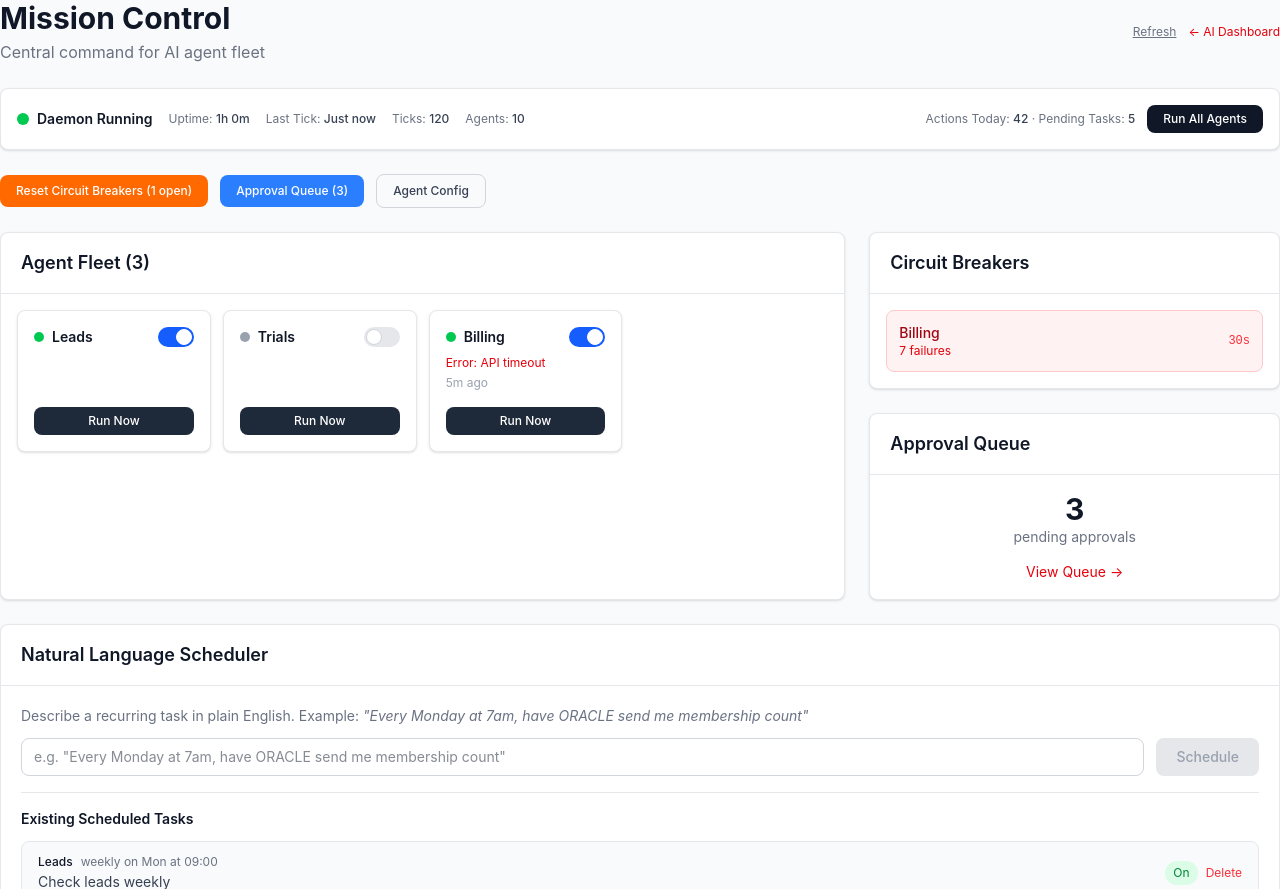
MissionControl › submits NL scheduler form and shows result
The width and height of the screenshot is (1280, 889).
Type "Every Monday at 7am send report" into the field with placeholder "e.g. \"Every Monday".
click(583, 757); type("Every Monday at 7am send report")  # box x1=21 y1=738 x2=1144 y2=776
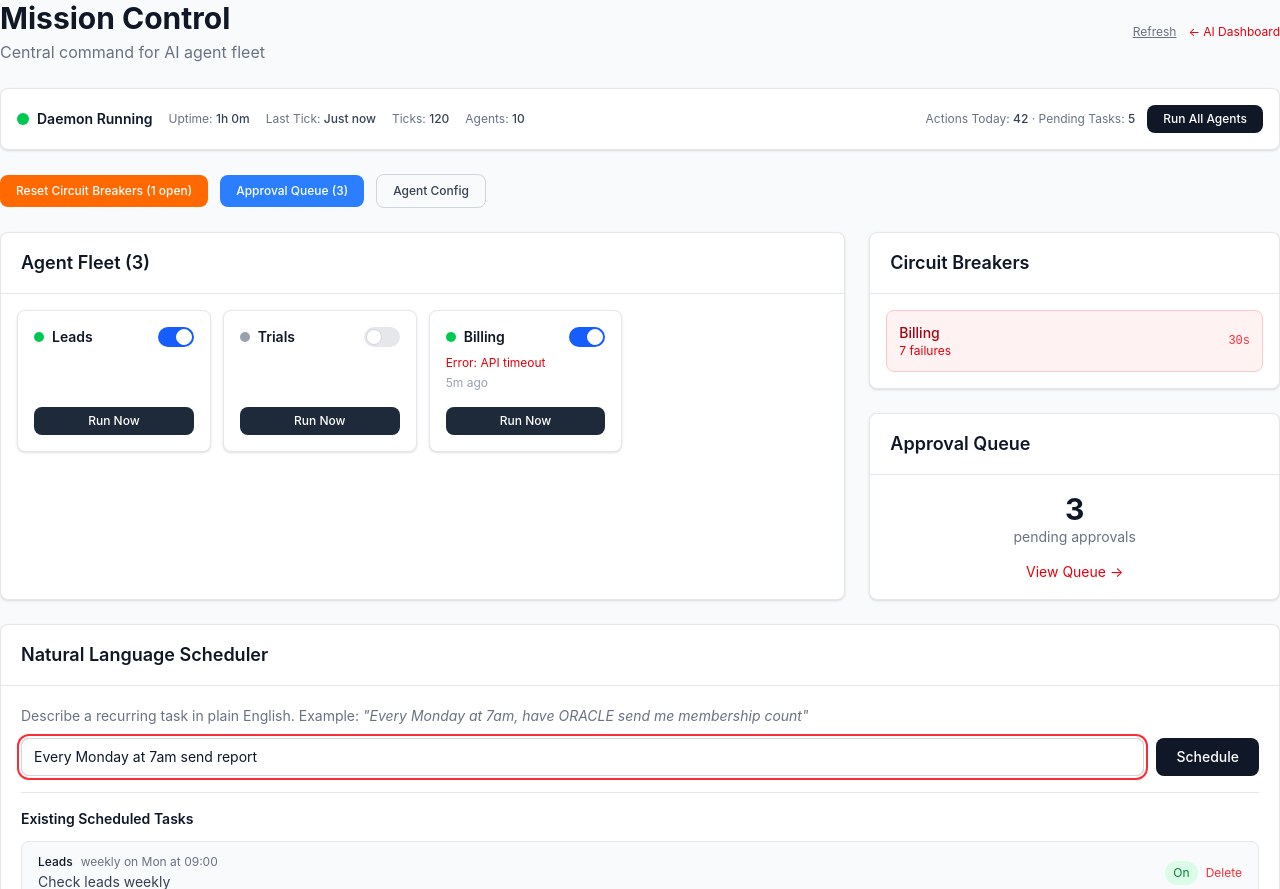
Click the button "Schedule".
click(1208, 757)  # box x1=1156 y1=738 x2=1259 y2=776
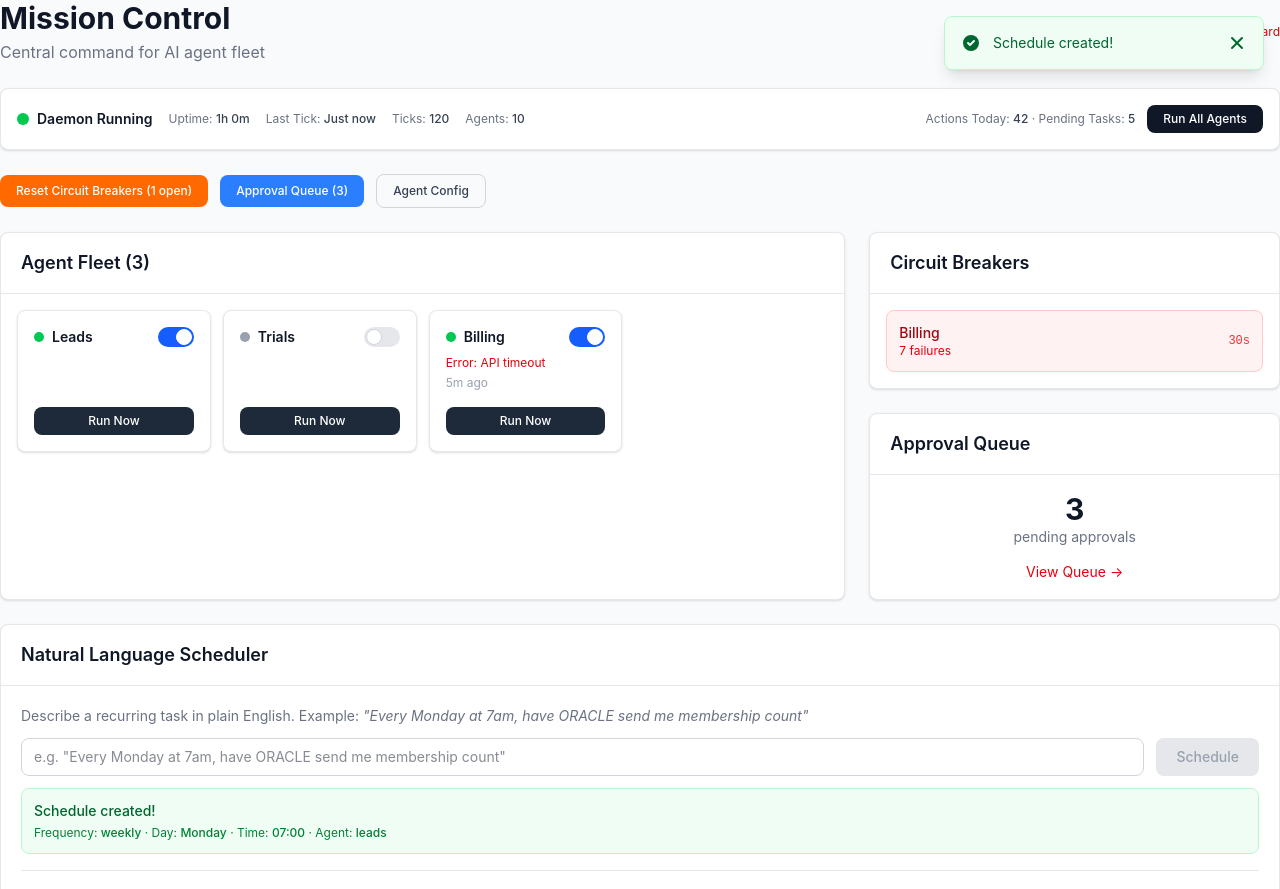
Check: the text "Schedule created!" below "Natural Language Scheduler" is shown, box x1=34 y1=802 x2=156 y2=819
Check: the text "weekly" is shown, box x1=101 y1=825 x2=141 y2=840
Check: the text "07:00" is shown, box x1=272 y1=825 x2=305 y2=840
